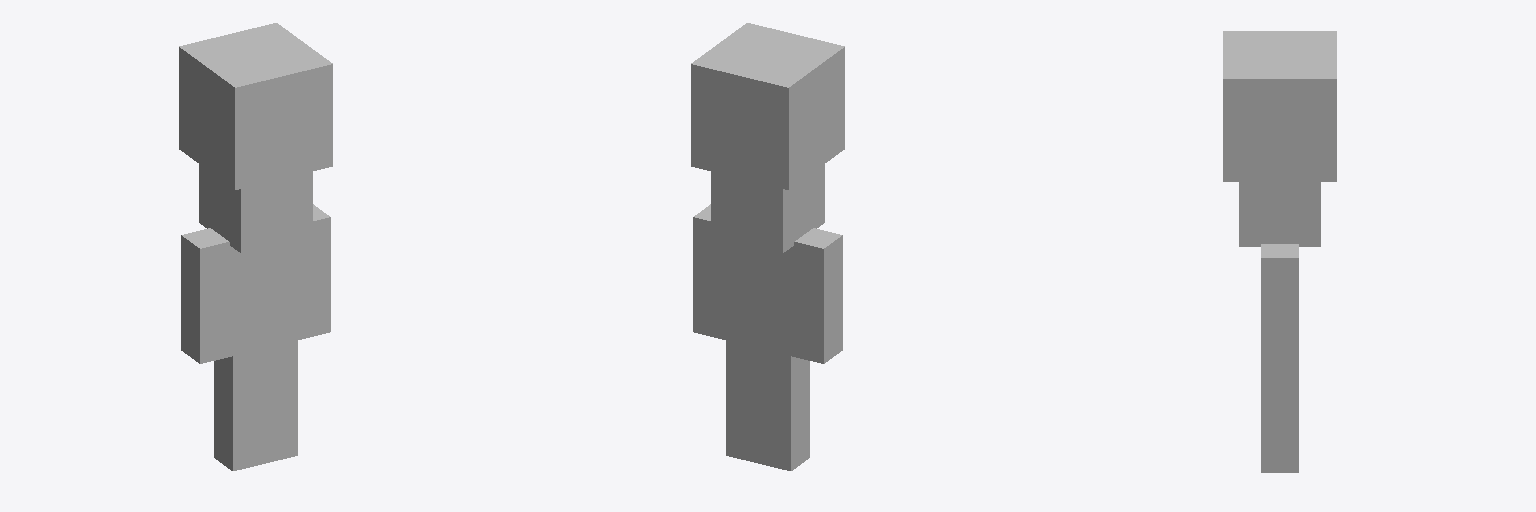
Rendered from vl_cosmetics_node_on_head.obj.
The picture shows the model from 3 angles: view 1: azimuth 30°, elevation 25°; view 2: azimuth 150°, elevation 25°; view 3: azimuth 270°, elevation 25°; orthographic projection.
Parts seen in each view (by area): view 1: HeadPreview_Cube.014, node_on_head_Cube.008; view 2: HeadPreview_Cube.014, node_on_head_Cube.008; view 3: node_on_head_Cube.008, HeadPreview_Cube.014.
Part boxes in pixels (bbox=[...]): HeadPreview_Cube.014: bbox=[181, 164, 330, 470]; node_on_head_Cube.008: bbox=[179, 23, 332, 189]; HeadPreview_Cube.014: bbox=[693, 164, 842, 470]; node_on_head_Cube.008: bbox=[691, 23, 844, 189]; node_on_head_Cube.008: bbox=[1223, 31, 1336, 181]; HeadPreview_Cube.014: bbox=[1239, 182, 1320, 472].
Size of the model in its own units: 8 by 23.5 by 6.